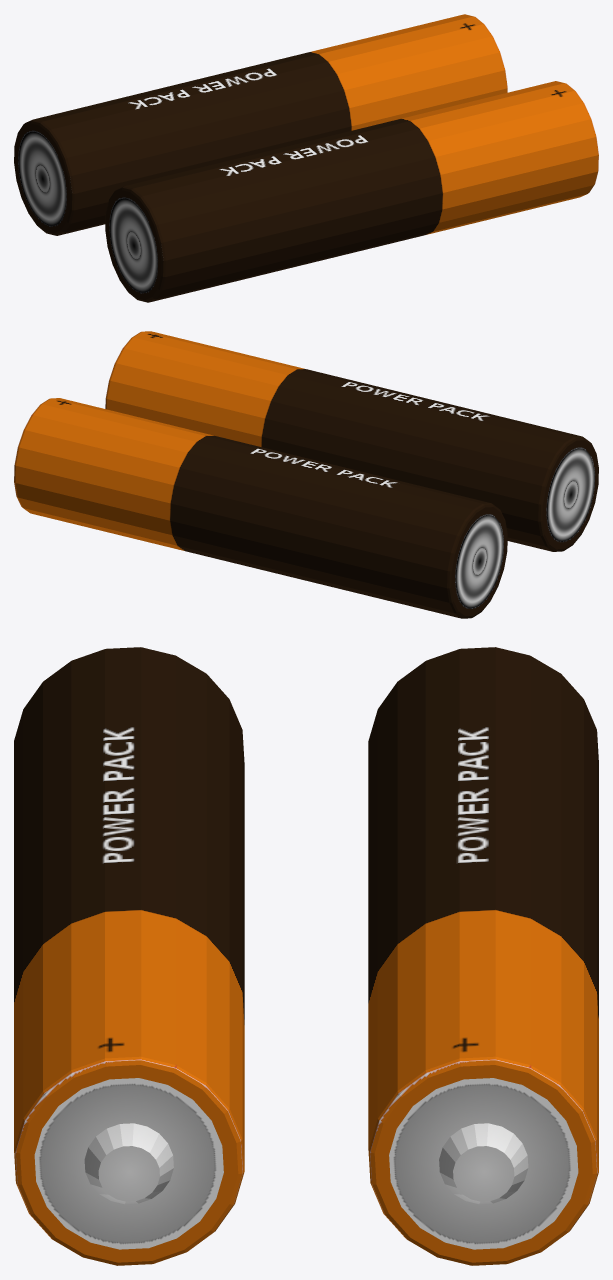
The model's file is powerpack.fbx.
3 views of the same model, one above another, from view 1: azimuth 30°, elevation 25°; view 2: azimuth 150°, elevation 25°; view 3: azimuth 270°, elevation 25° (orthographic). The views are drawn at different scales.
Visible parts, largest first — view 1: polySurface1; view 2: polySurface1; view 3: polySurface1.
Boxes of the visible parts, bbox=[...] form: polySurface1: bbox=[14, 14, 598, 302]; polySurface1: bbox=[14, 331, 598, 618]; polySurface1: bbox=[14, 647, 598, 1265].
Bounding box in the file's own units: 16.5 × 3.79 × 9.61.
1 material, 1 textured.
